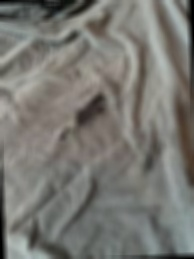oil: (53, 85, 111, 146)
